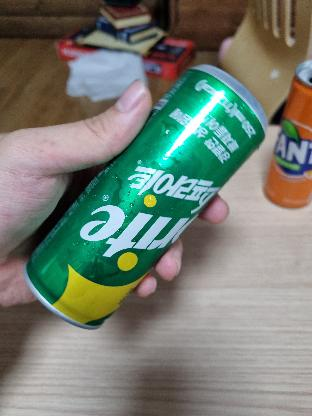Can: (34, 67, 266, 323)
